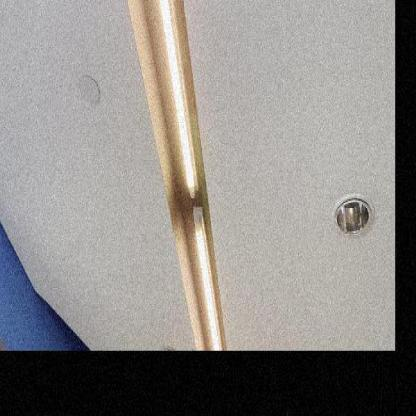light_on: (140, 0, 204, 207), (186, 207, 226, 351)
